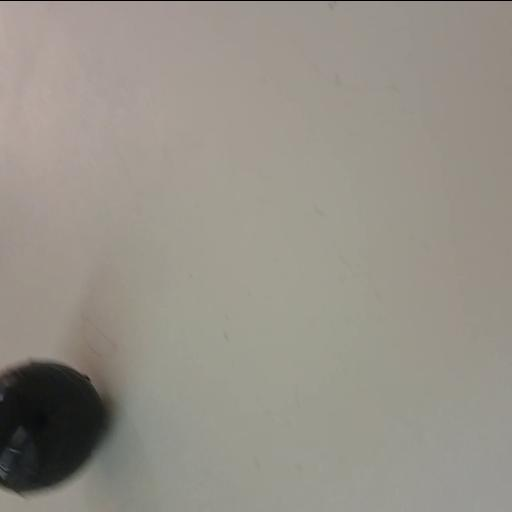dead: (0, 357, 107, 500)
